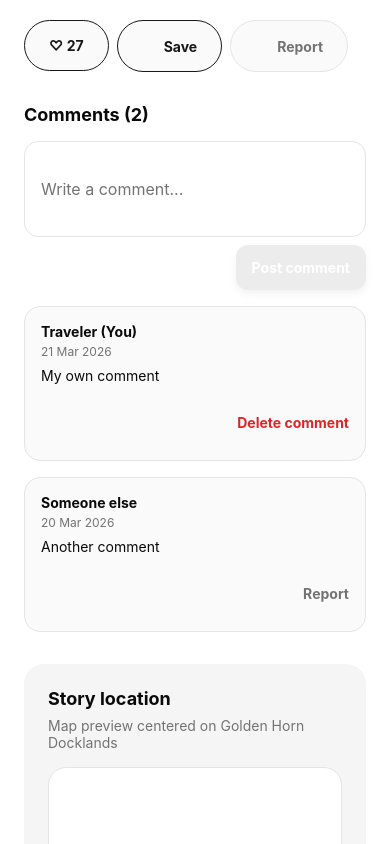
it: StoryScreen › shows delete controls only for the user’s own comments and deletes after confirmation
(page scrolled)
Expected: the text "My own comment" is shown, [41,367,159,384]
Expected: the text "Delete comment" is shown once, [237,414,349,430]
Click the button "Delete comment": (293, 422) [237,400,349,444]
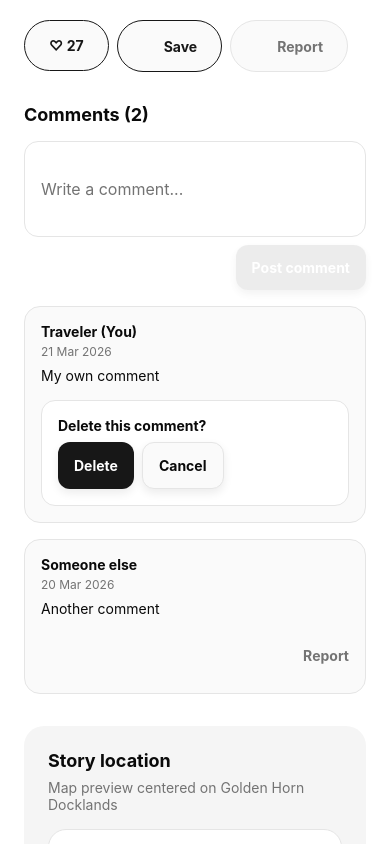
Expected: the text "Delete this comment?" is shown, [58,417,206,434]
Click the button "Delete": (96, 466) [58,442,134,489]
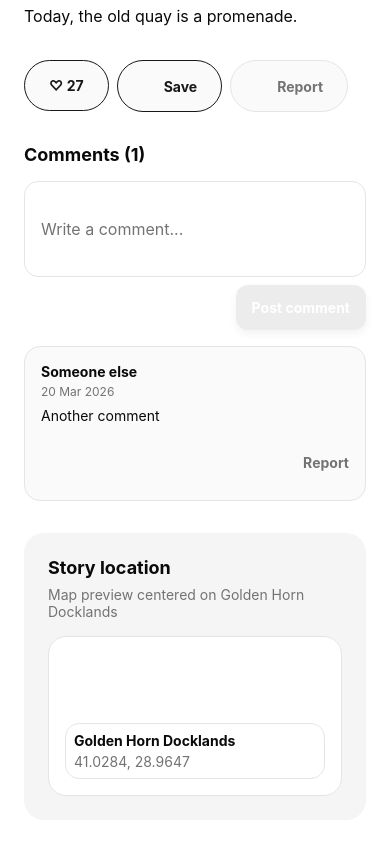
Expected: the text "Delete this comment?" is gone
